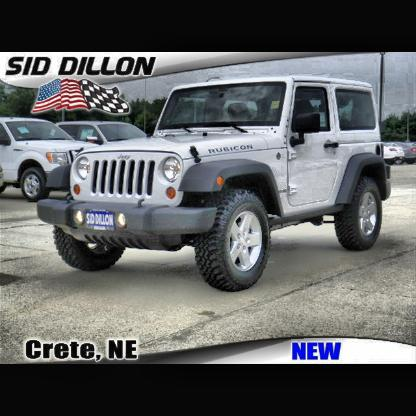Jeep Wrangler SUV 2012: (40, 77, 391, 292)
